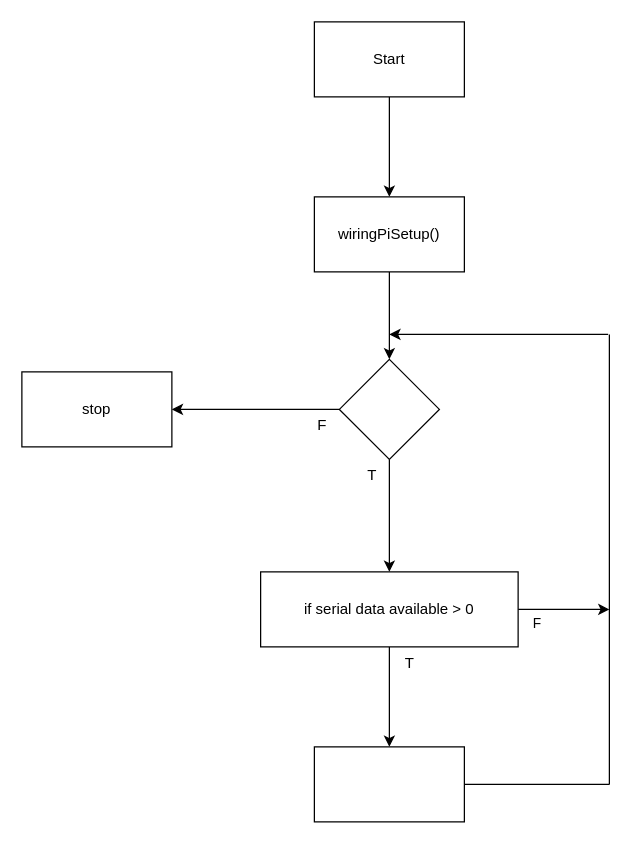
The diagram is 641 pixels wide and 844 high, and some of its shapes have lost their labels. The centre of each missing label's shape, as x and y in pixels:
"print seriellPort" belongs at pixel 388 784.
"while(1)" belongs at pixel 388 408.
